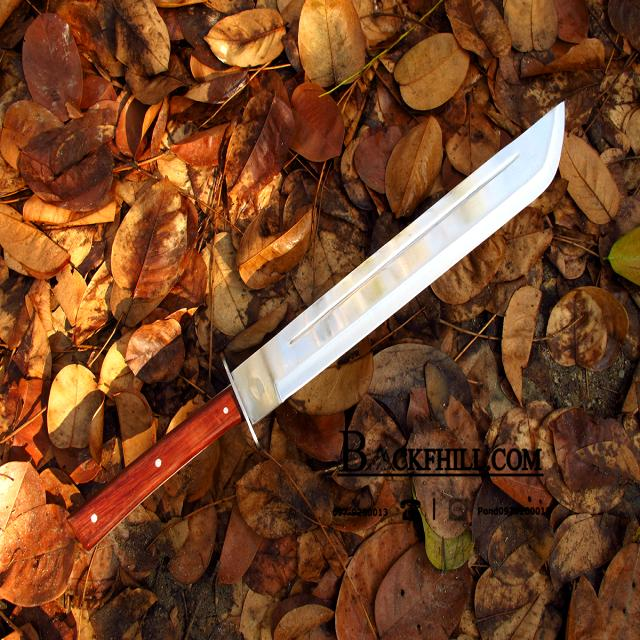long sword: (67, 102, 567, 540)
